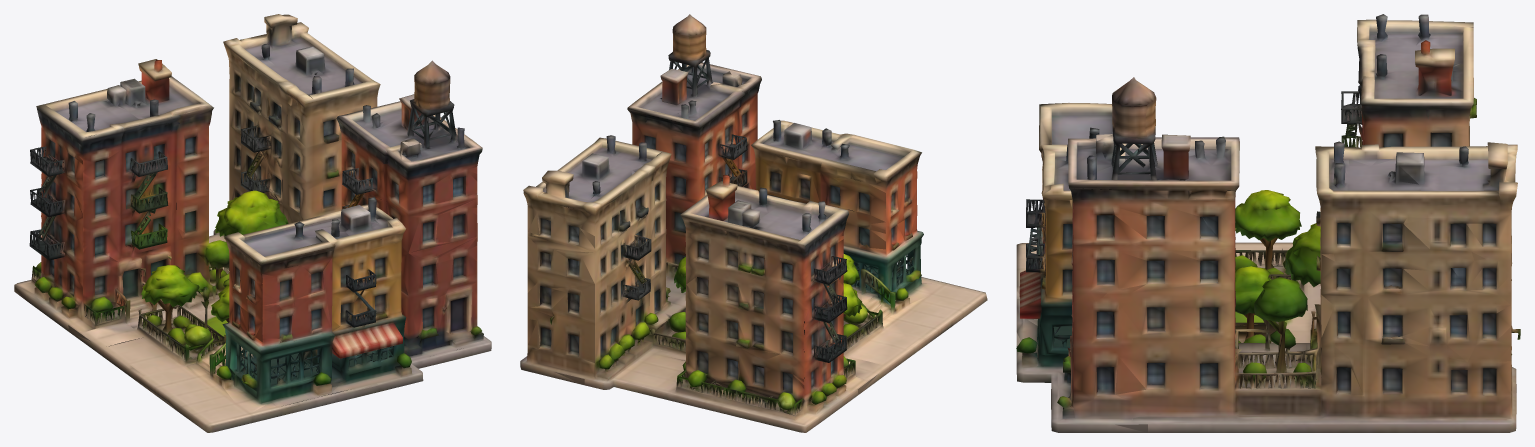
File: block-walkups-a.glb
3 views of the same model, side by side, from view 1: azimuth 30°, elevation 25°; view 2: azimuth 150°, elevation 25°; view 3: azimuth 270°, elevation 25° (orthographic). The views are drawn at different scales.
Parts seen in each view (by area): view 1: low; view 2: low; view 3: low.
Part boxes in pixels (x1,y1,x2,y2): low: (14, 14, 491, 432); low: (520, 14, 987, 432); low: (1016, 14, 1520, 432).
Bounding box in the file's own units: 0.8483 × 0.7392 × 0.9789.
1 material, 1 textured.
